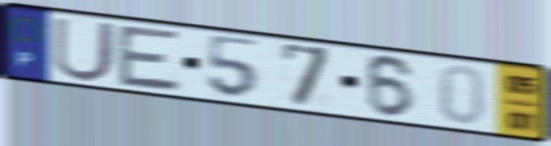0: (434, 63, 491, 129)
5: (204, 32, 264, 102)
6: (363, 54, 422, 120)
7: (278, 40, 334, 110)
E: (115, 22, 185, 95)
U: (50, 14, 119, 84)
